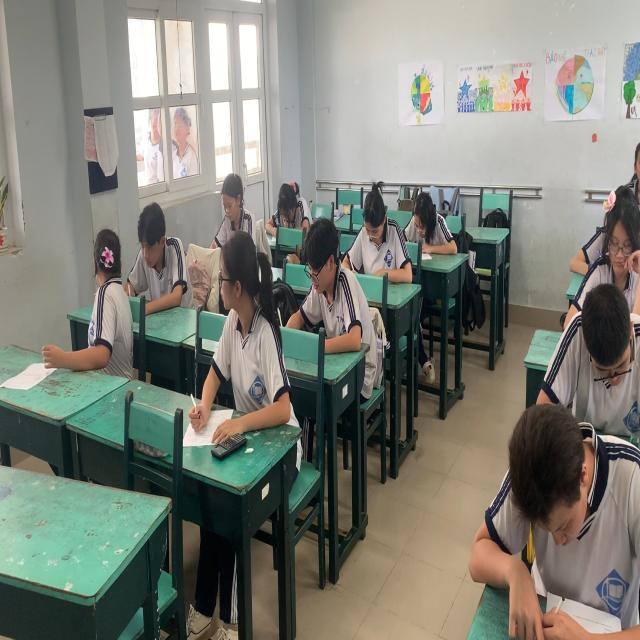cheating: (210, 230, 282, 413), (81, 223, 128, 358)
not_cheating: (478, 399, 634, 624), (560, 279, 640, 396), (301, 220, 353, 330), (592, 188, 640, 271), (130, 198, 174, 288), (352, 182, 396, 272), (412, 182, 445, 254), (219, 175, 253, 234), (268, 182, 305, 226)
